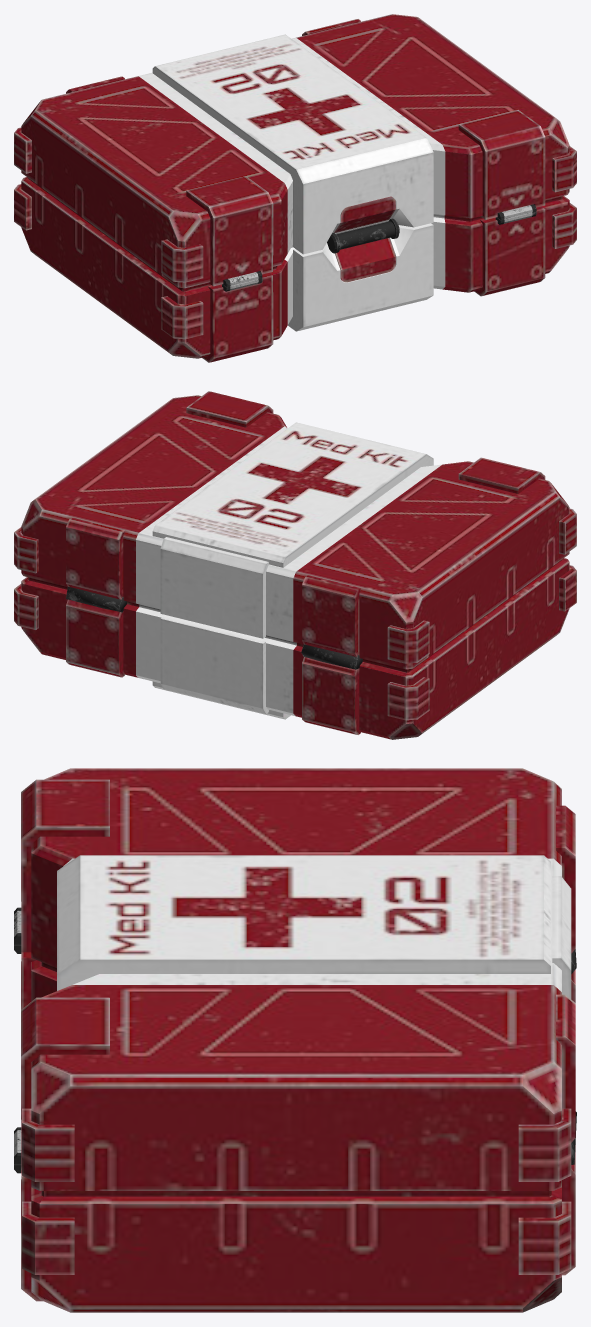
3 renders of one model, top to bottom at view 1: azimuth 30°, elevation 25°; view 2: azimuth 150°, elevation 25°; view 3: azimuth 270°, elevation 25°, orthographic. The views are drawn at different scales.
Parts seen in each view (by area): view 1: Cube_low, Cube_Plate_low, Cube_Plate.001_low, Cube_Plate.002_low, Cube_Plate_m1_low, Cylinder.001_low, Cube_Castle_low, Cube_Plate.004_low; view 2: Cube_low, Cube_Plate_low, Cube_Plate.003_low, Cube_Plate.004_low, Cube_Plate.002_low, Cube_Plate.001_low, Cylinder_low; view 3: Cube_low, Cube_Plate_low, Cube_Plate.001_low, Cube_Plate.002_low, Cube_Plate.004_low, Cube_Plate.003_low.
Part boxes in pixels (x1=…): Cube_low: x1=21, y1=14, x2=569, y2=358; Cube_Plate_low: x1=152, y1=34, x2=433, y2=331; Cube_Plate.001_low: x1=186, y1=110, x2=545, y2=362; Cube_Plate.002_low: x1=14, y1=127, x2=576, y2=339; Cube_Plate_m1_low: x1=334, y1=196, x2=395, y2=282; Cylinder.001_low: x1=327, y1=218, x2=399, y2=253; Cube_Castle_low: x1=223, y1=204, x2=536, y2=286; Cube_Plate.004_low: x1=66, y1=19, x2=360, y2=93; Cube_low: x1=21, y1=395, x2=569, y2=739; Cube_Plate_low: x1=152, y1=422, x2=433, y2=719; Cube_Plate.003_low: x1=160, y1=537, x2=268, y2=713; Cube_Plate.004_low: x1=66, y1=517, x2=360, y2=734; Cube_Plate.002_low: x1=14, y1=508, x2=576, y2=720; Cube_Plate.001_low: x1=186, y1=391, x2=545, y2=493; Cylinder_low: x1=66, y1=586, x2=362, y2=669; Cube_low: x1=31, y1=768, x2=561, y2=1312; Cube_Plate_low: x1=57, y1=855, x2=550, y2=990; Cube_Plate.001_low: x1=21, y1=779, x2=109, y2=1301; Cube_Plate.002_low: x1=22, y1=1108, x2=571, y2=1274; Cube_Plate.004_low: x1=556, y1=805, x2=575, y2=1275; Cube_Plate.003_low: x1=552, y1=876, x2=571, y2=998.
Size of the model in its own units: 5.76 by 2.21 by 4.24.
Materials: 3 (3 with a texture image).
